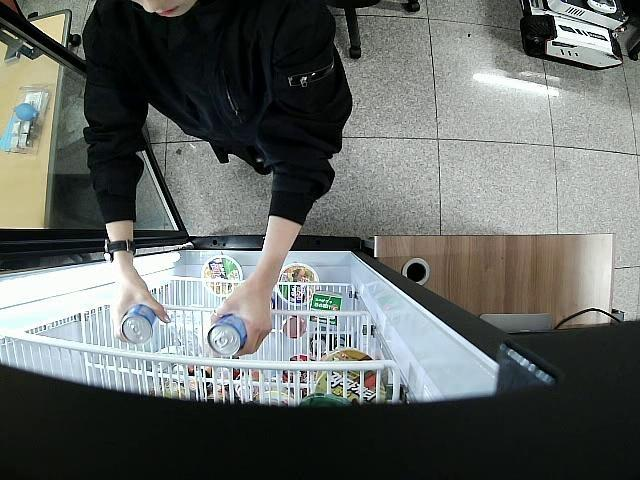15_letsbe: (208, 310, 248, 357), (120, 304, 156, 340)
